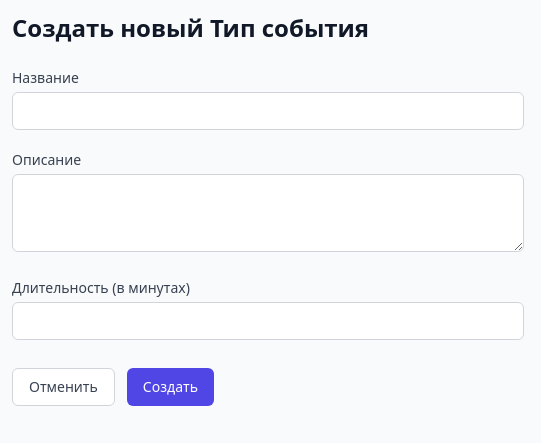
CreateMeetingTypePage › shows validation error for duration less than 1
Type "Test" into the field.
click(268, 111); type("Test")  # box [12,92,524,130]
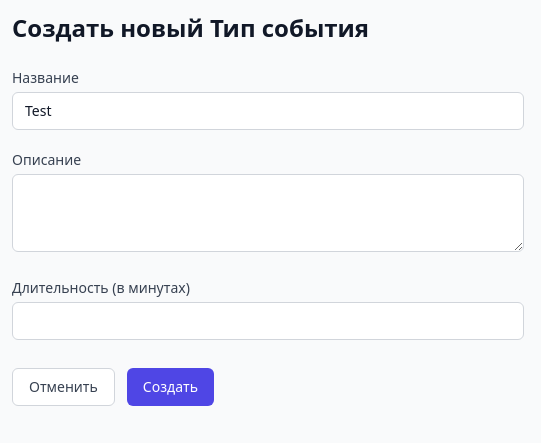
Type "Desc" into the text box.
click(268, 213); type("Desc")  # box [12,174,524,252]
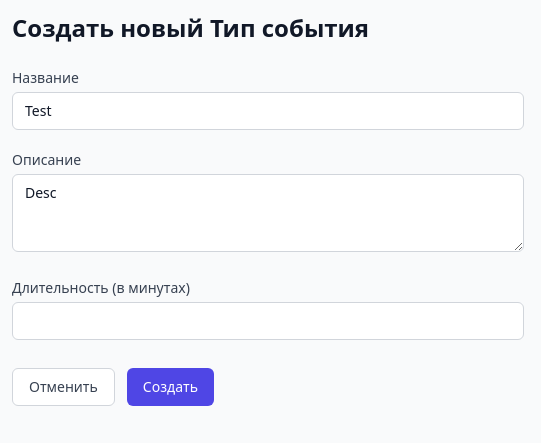
Type "0" into the number field.
click(268, 321); type("0")  # box [12,302,524,340]
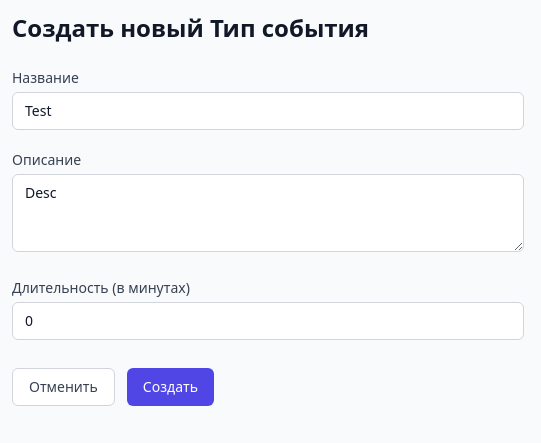
Submit the form
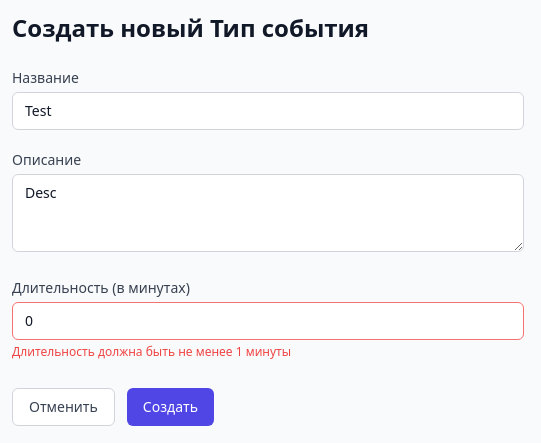
Result: the text "Длительность должна быть не менее 1 минуты" is shown at [12,343,291,360]
